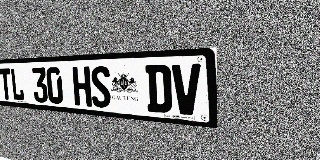0: (46, 67, 63, 104)
3: (32, 67, 48, 103)
D: (145, 64, 172, 114)
H: (72, 66, 92, 107)
L: (10, 68, 25, 101)
S: (90, 66, 112, 108)
T: (0, 68, 13, 100)
V: (172, 64, 201, 116)
